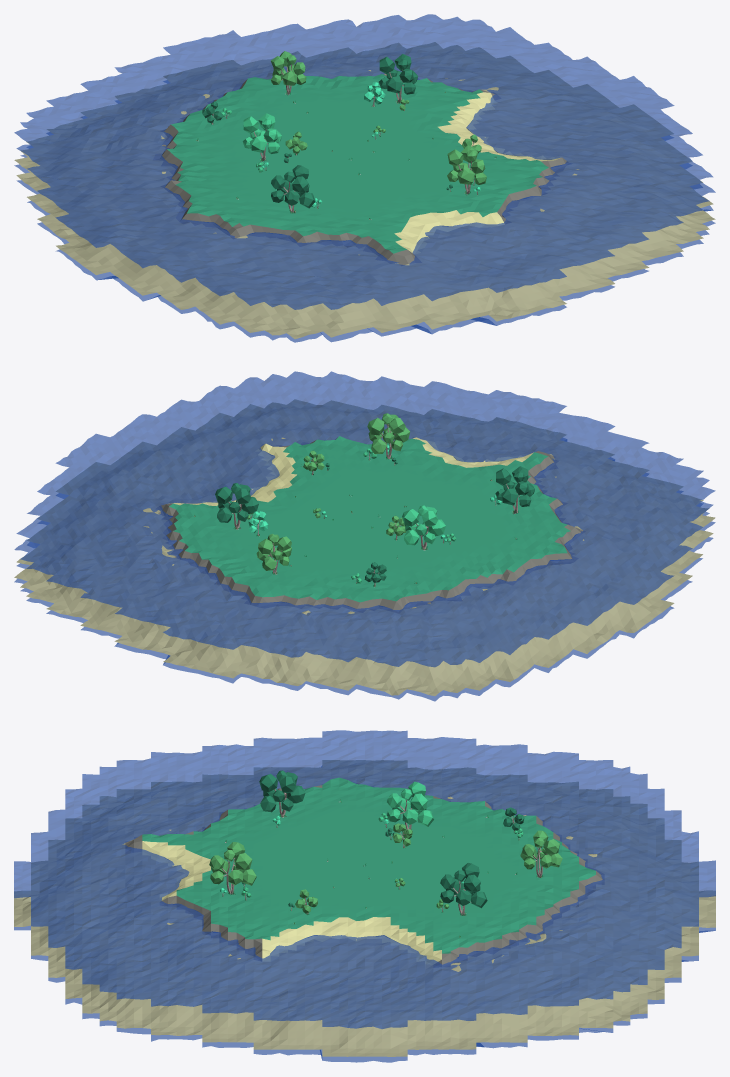
The model's file is simulation_world.fbx.
3 renders of one model, top to bottom at view 1: azimuth 30°, elevation 25°; view 2: azimuth 150°, elevation 25°; view 3: azimuth 270°, elevation 25°, orthographic. The views are drawn at different scales.
Visible parts, largest first — view 1: Plane, Plane.002, trees_group_1, trees_group_4, trees_group_2, trees_group_3; view 2: Plane, Plane.002, trees_group_1, trees_group_4, trees_group_2, trees_group_3; view 3: Plane, Plane.002, trees_group_1, trees_group_4, trees_group_2, trees_group_3.
Boxes of the visible parts, bbox=[...] form: Plane: bbox=[14, 42, 715, 339]; Plane.002: bbox=[14, 14, 715, 342]; trees_group_1: bbox=[271, 51, 417, 139]; trees_group_4: bbox=[202, 101, 307, 172]; trees_group_2: bbox=[446, 134, 486, 194]; trees_group_3: bbox=[271, 165, 321, 212]; Plane: bbox=[14, 399, 715, 696]; Plane.002: bbox=[14, 371, 715, 701]; trees_group_1: bbox=[215, 483, 326, 574]; trees_group_4: bbox=[351, 505, 456, 586]; trees_group_2: bbox=[303, 413, 410, 474]; trees_group_3: bbox=[490, 466, 534, 513]; Plane: bbox=[14, 760, 715, 1056]; Plane.002: bbox=[14, 730, 715, 1062]; trees_group_1: bbox=[394, 830, 562, 915]; trees_group_4: bbox=[378, 781, 524, 847]; trees_group_2: bbox=[209, 842, 317, 914]; trees_group_3: bbox=[259, 770, 305, 827].
Bounding box in the file's own units: 13303 × 1867 × 13303.
